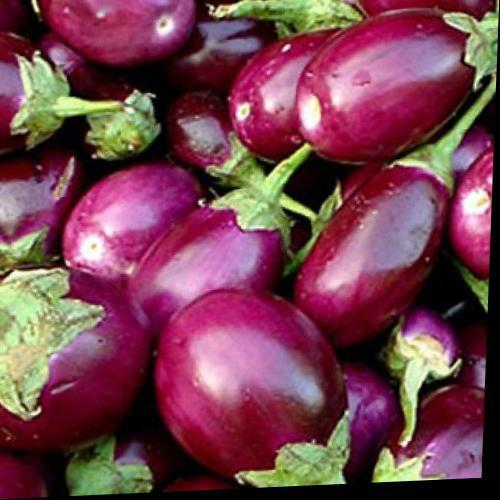eggplant: (0, 0, 499, 493), (162, 283, 363, 470), (280, 4, 498, 168), (122, 150, 326, 324), (328, 133, 462, 354), (0, 267, 153, 456)
